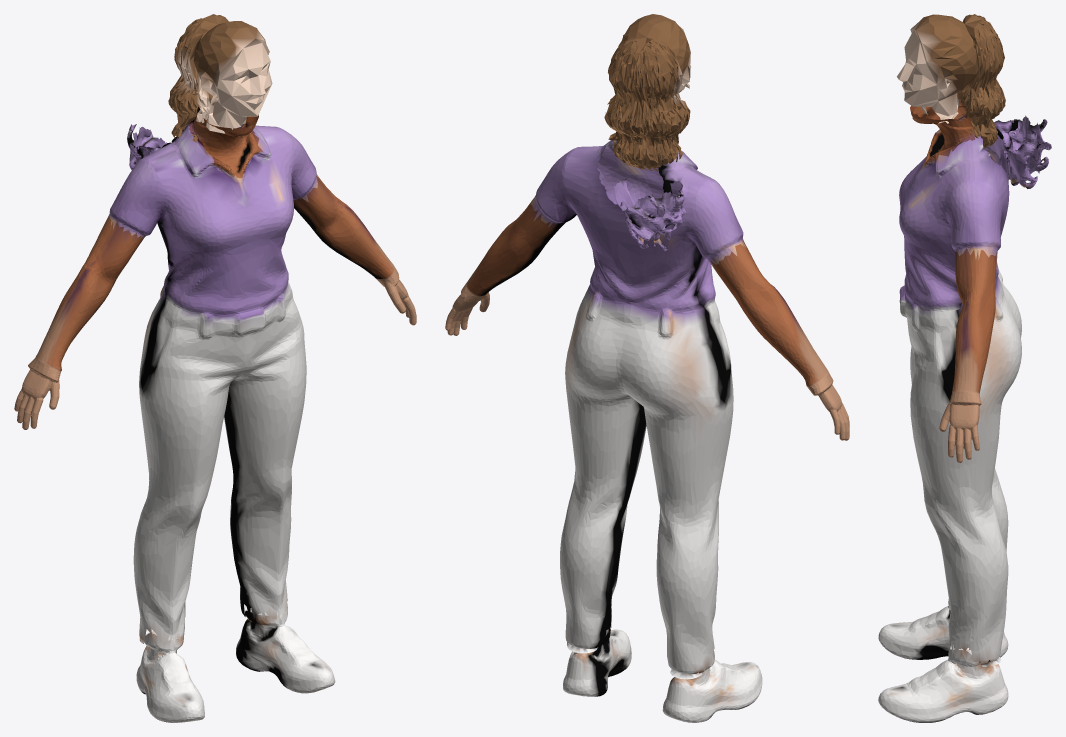
File: Maya_upload.fbx
3 renders of one model, left to right at view 1: azimuth 30°, elevation 25°; view 2: azimuth 150°, elevation 25°; view 3: azimuth 270°, elevation 25°, orthographic.
Visible parts, largest first — view 1: Bottom_Chinos, Top_Polo, Body_Arms, Head_Maya, Shoes_Golf; view 2: Bottom_Chinos, Top_Polo, Body_Arms, Head_Maya, Shoes_Golf; view 3: Bottom_Chinos, Top_Polo, Head_Maya, Body_Arms, Shoes_Golf.
Boxes of the visible parts, x1=… form: Bottom_Chinos: x1=133, y1=282, x2=306, y2=644; Top_Polo: x1=105, y1=124, x2=318, y2=321; Body_Arms: x1=14, y1=106, x2=416, y2=429; Head_Maya: x1=168, y1=14, x2=272, y2=141; Shoes_Golf: x1=136, y1=603, x2=335, y2=722; Bottom_Chinos: x1=560, y1=285, x2=733, y2=674; Top_Polo: x1=530, y1=140, x2=746, y2=324; Body_Arms: x1=445, y1=198, x2=849, y2=440; Head_Maya: x1=604, y1=14, x2=690, y2=170; Shoes_Golf: x1=563, y1=629, x2=762, y2=722; Bottom_Chinos: x1=899, y1=270, x2=1021, y2=664; Top_Polo: x1=899, y1=115, x2=1051, y2=317; Head_Maya: x1=897, y1=14, x2=1005, y2=148; Body_Arms: x1=910, y1=99, x2=996, y2=462; Shoes_Golf: x1=878, y1=599, x2=1008, y2=722.
Bounding box in the file's own units: 1.06 × 1.71 × 0.4023.
